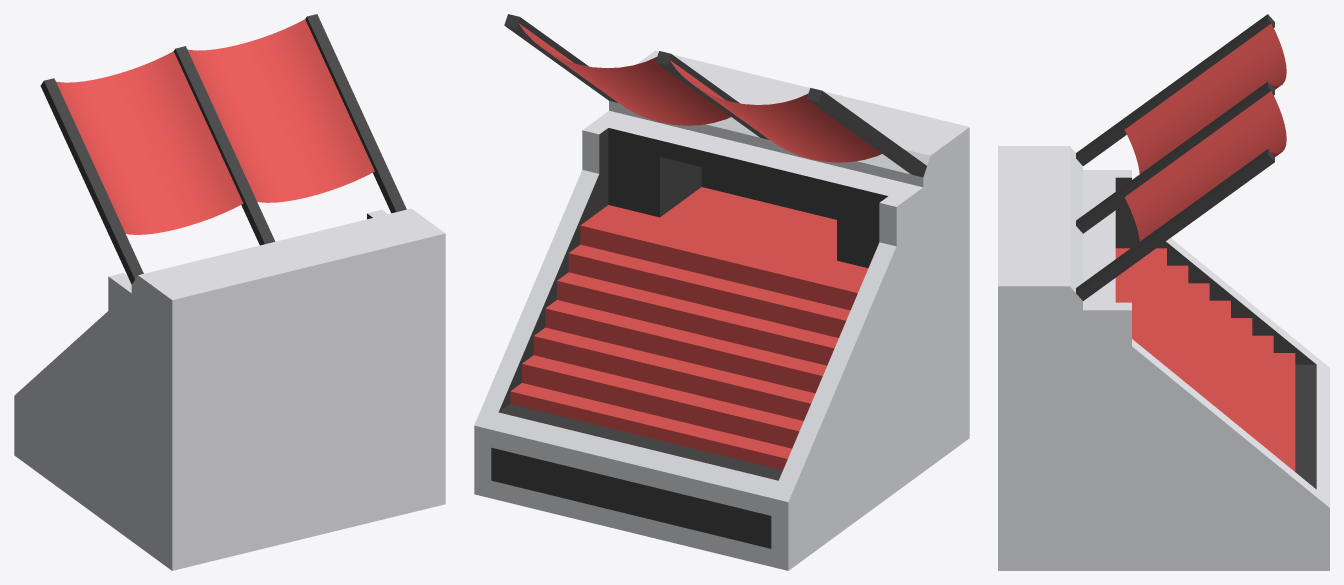
The model's file is grandStandAwning.fbx.
3 renders of one model, left to right at view 1: azimuth 30°, elevation 25°; view 2: azimuth 150°, elevation 25°; view 3: azimuth 270°, elevation 25°, orthographic. The views are drawn at different scales.
Visible parts, largest first — view 1: grandStandAwning; view 2: grandStandAwning; view 3: grandStandAwning.
Part boxes in pixels (bbox=[...]): grandStandAwning: bbox=[14, 14, 445, 570]; grandStandAwning: bbox=[474, 14, 969, 570]; grandStandAwning: bbox=[998, 14, 1329, 570].
Bounding box in the file's own units: 10 × 13.85 × 10.
